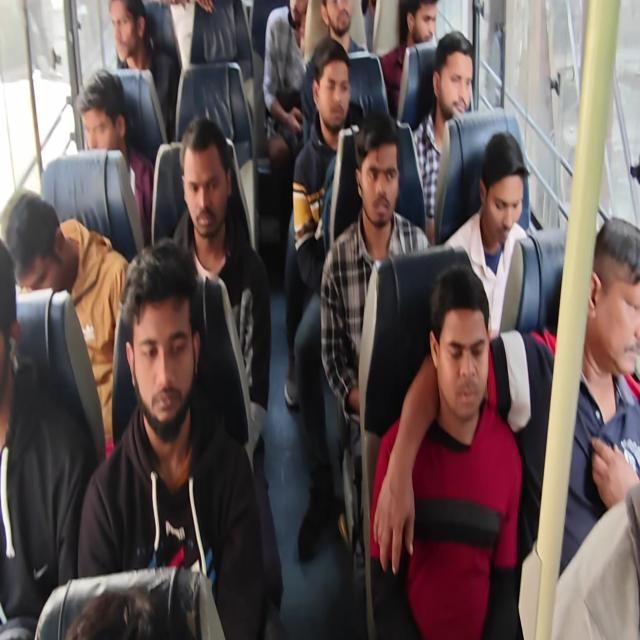person: (108, 232, 210, 444), (426, 265, 494, 428), (590, 199, 640, 382), (60, 570, 196, 637), (466, 122, 537, 250), (0, 184, 77, 290), (352, 106, 403, 235), (0, 230, 32, 406), (180, 122, 231, 230), (78, 69, 127, 171), (306, 43, 356, 121), (434, 30, 476, 116), (108, 0, 150, 63), (403, 2, 440, 50), (319, 1, 359, 30), (285, 1, 310, 33)
